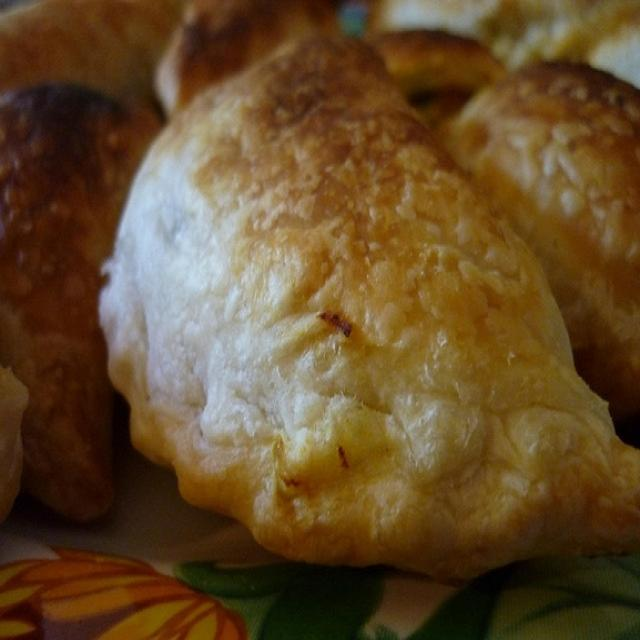炸货点心: (45, 18, 629, 597)
